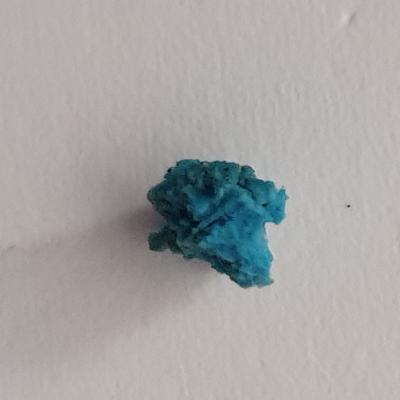plastic: (133, 151, 317, 301)
